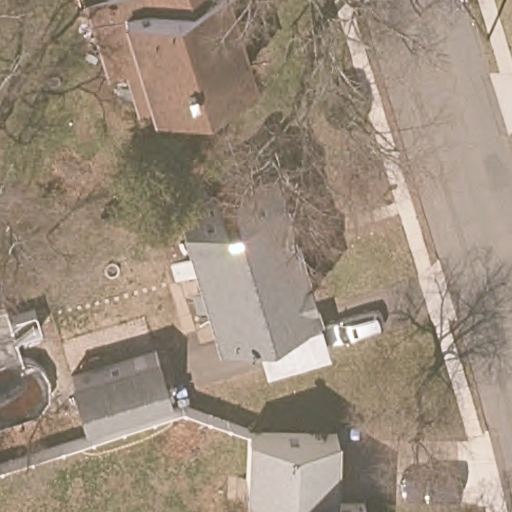DT: (457, 1, 490, 42)
